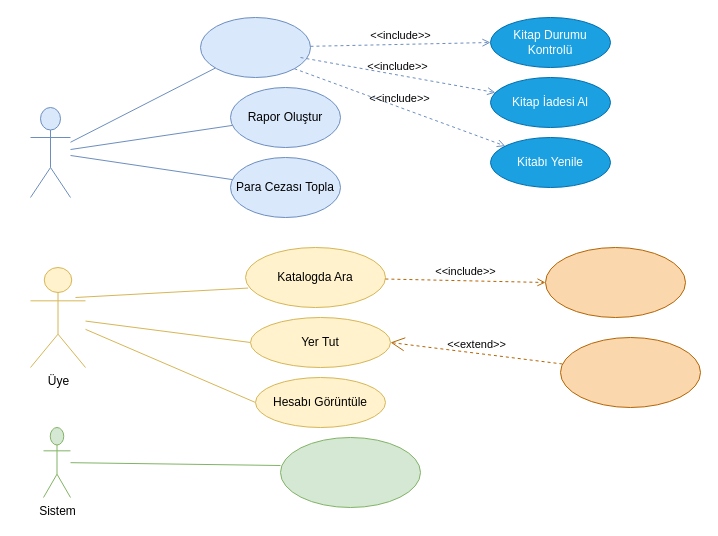
Some shapes in this 718 by 536 pixel diagram are drawn without their labels. Here are the shapes that lost their labels. From the top down, the centre of each, then its label:
At (255,47): "Kütüphane Envanterini Yönet".
At (50,152): "Kütüphaneci".
At (615,282): "Kitap Detaylarını Görüntüle".
At (630,372): "Yer Tutmayı İptal Et".
At (350,472): "Gecikme Bildirimi Gönder".
